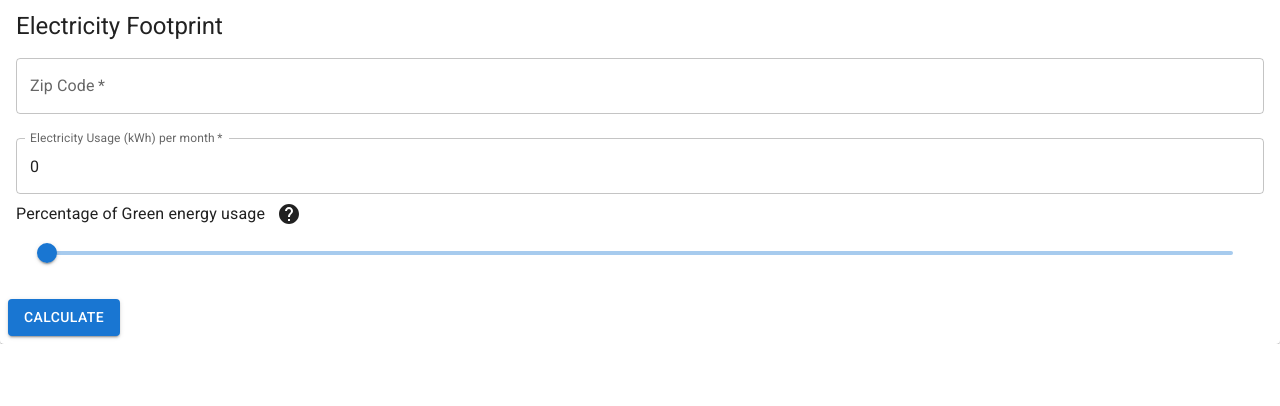
Test: ElectricityFootprintForm › displays error messages when submission fails
Step 1. Type "12345" into the field labelled "Zip Code *" → point(640, 86), box [16, 58, 1264, 114]
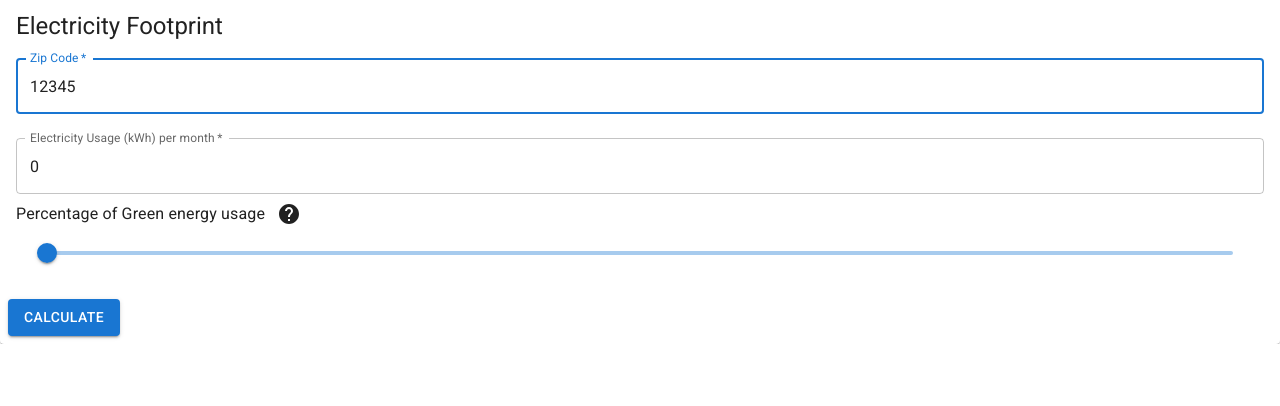
Step 2. Type "100" into the number field labelled "Electricity Usage (kWh) per month *" → point(640, 166), box [16, 138, 1264, 194]
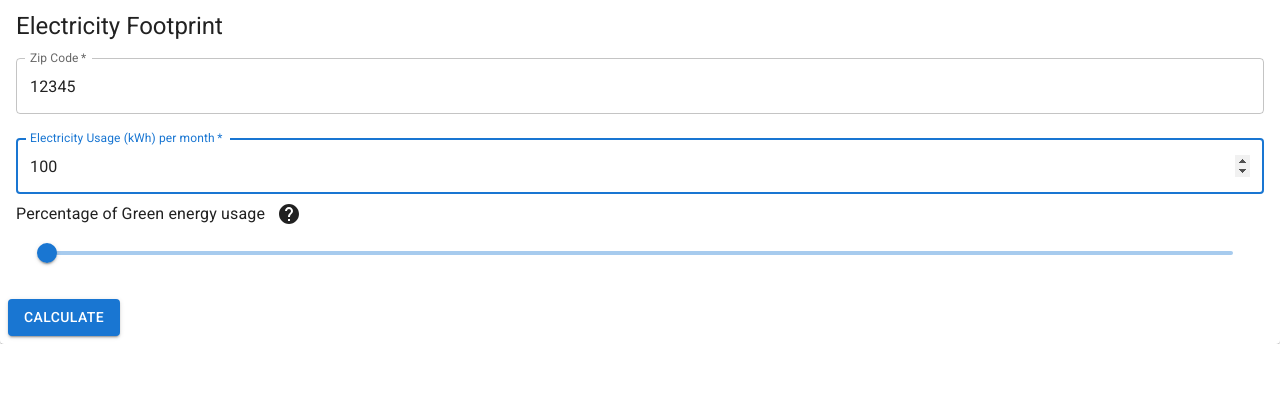
Step 3. Set the slider to "50" → point(47, 253), box [37, 243, 57, 263]
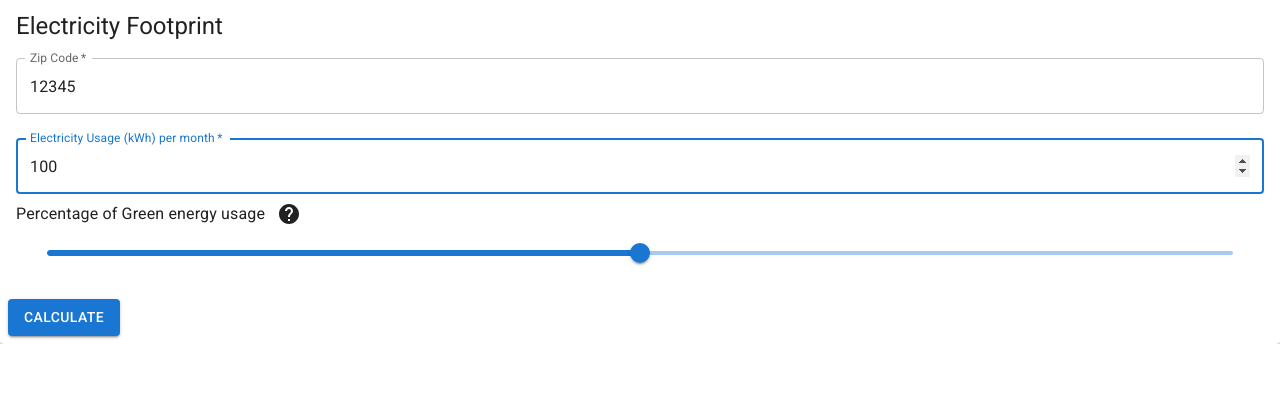
Step 4. Submit the form from the button "Calculate", box [8, 299, 120, 336]
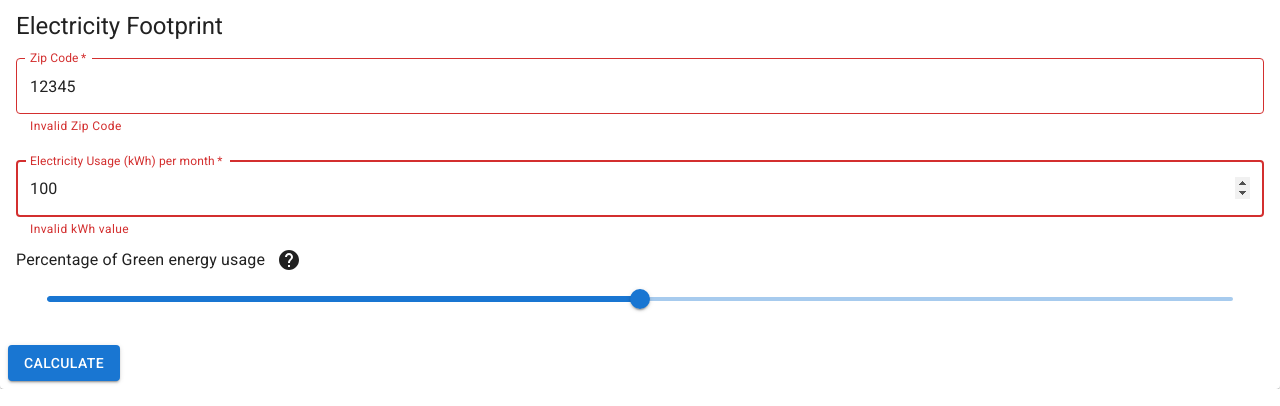
Expected: the text "Invalid Zip Code" is shown, [30, 119, 122, 133]
Expected: the text "Invalid kWh value" is shown, [30, 222, 129, 236]
